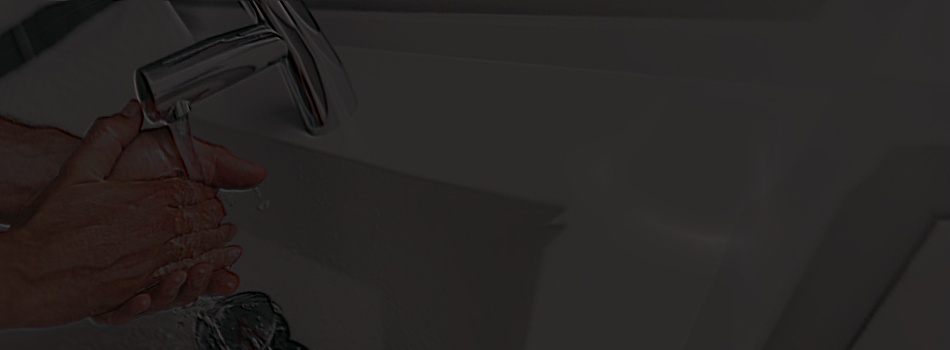washing hand: (29, 0, 388, 349)
